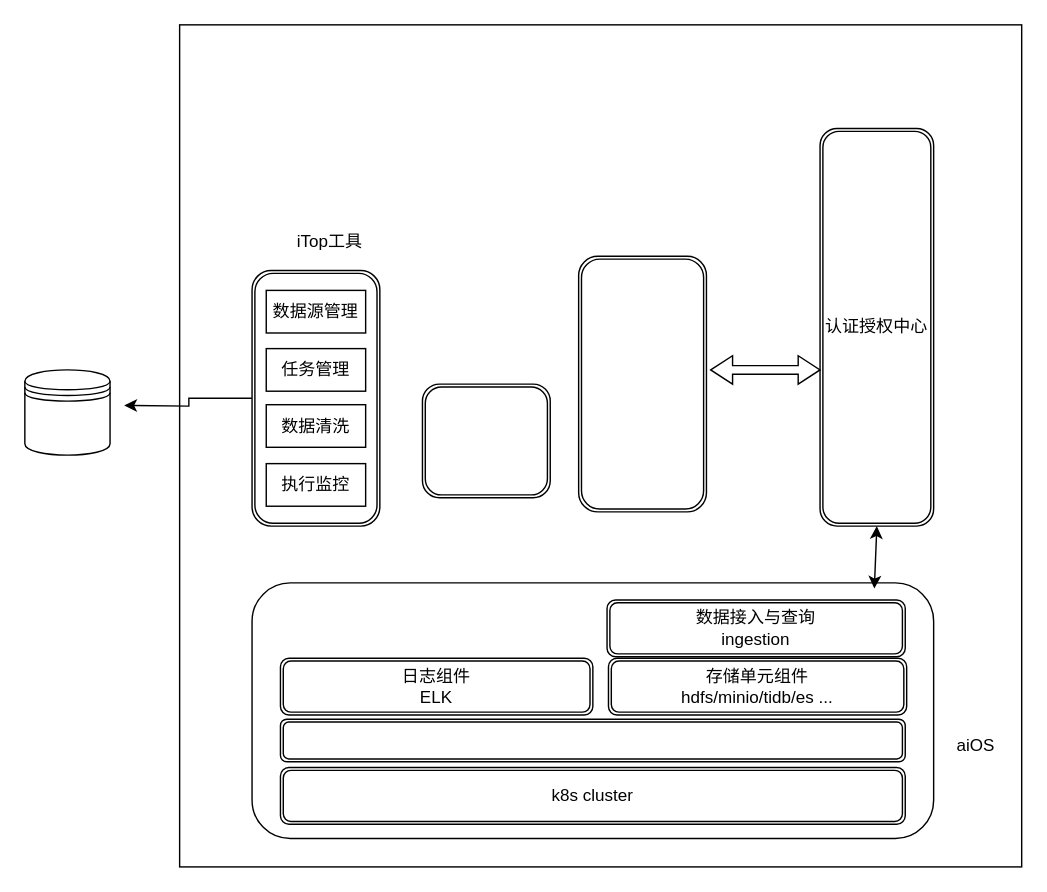
The diagram is 1047 pixels wide and 892 high, and some of its shapes have lost their labels. Each missing label, with the centre of its shape:
"kettle-web" belongs at point (485, 440).
"外部数据源" belongs at point (66, 411).
"开放平台服务" belongs at point (641, 383).
"监控组件 prometheus" belongs at point (592, 740).
